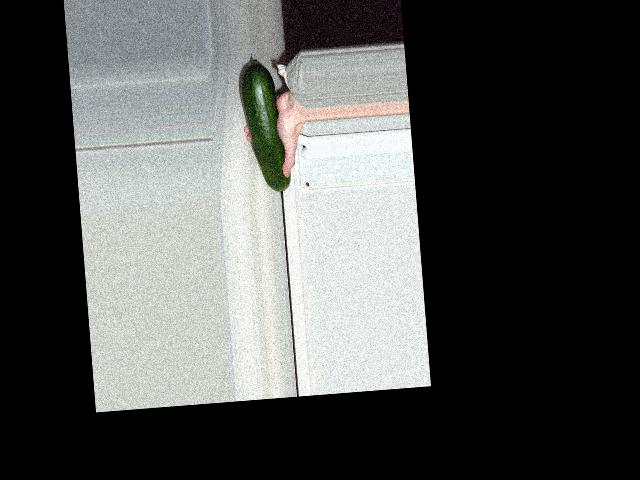cucumber: (236, 57, 291, 194)
